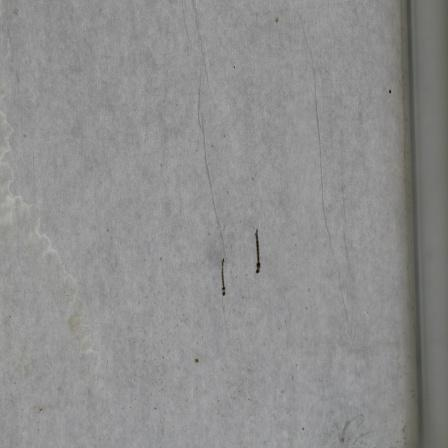Jentik-Nyamuk: (252, 226, 266, 277), (217, 256, 231, 300)
